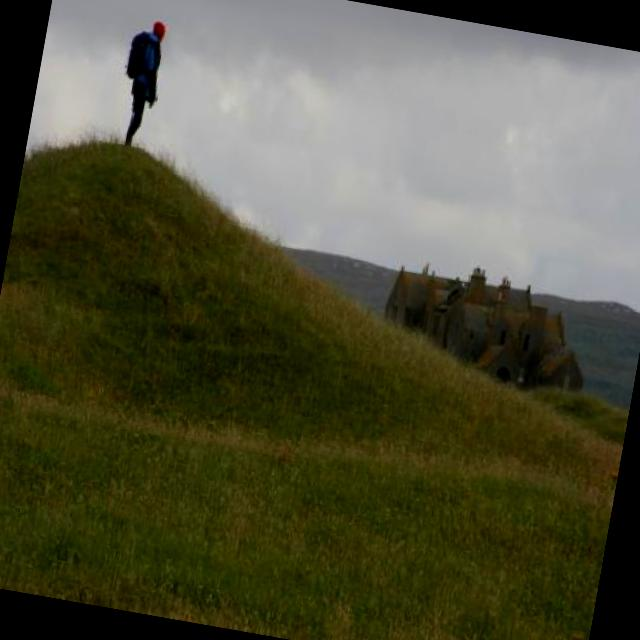Person: (107, 7, 169, 144)
